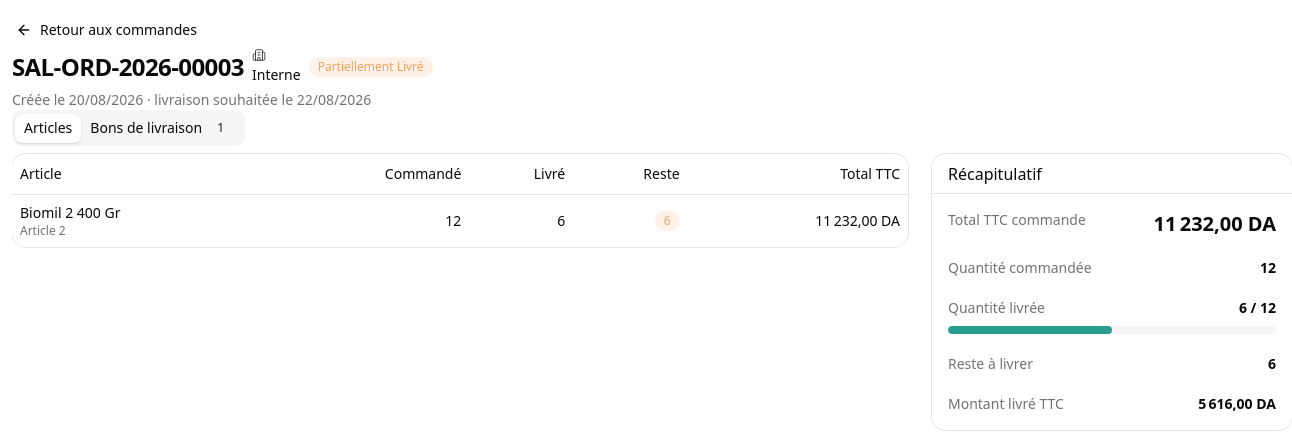
Test: détail commande portail › affiche les quantités réellement livrées d'une commande partielle
expect the text "Interne" is shown: met, box [252,65,301,84]
expect the tab "Articles" is shown: met, box [15,114,81,142]
Click the tab "Bons de livraison 1": (162, 128) [81,114,242,142]
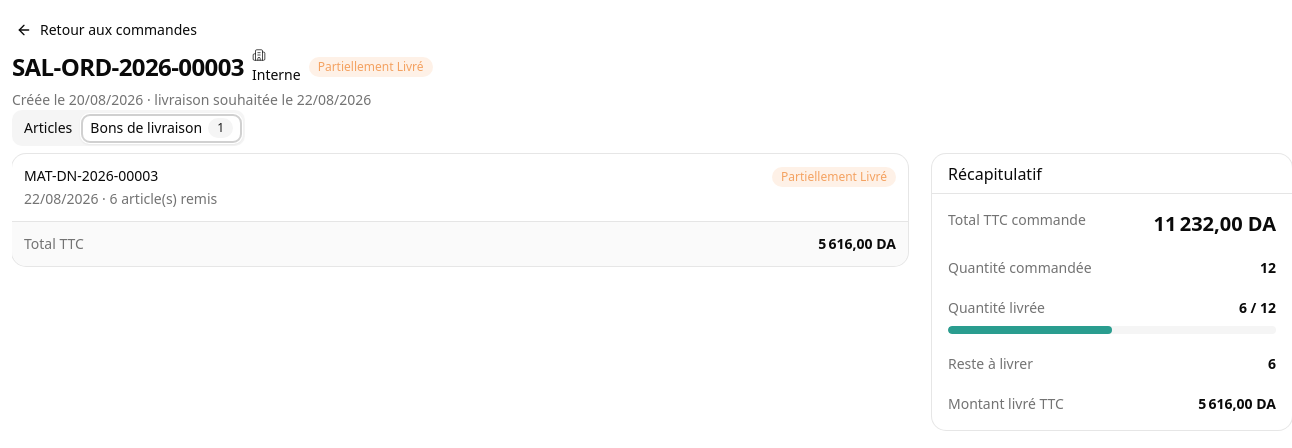
expect the text "MAT-DN-2026-00003" is shown: met, box [24,166,158,185]
expect the text "22/08/2026 · 6 article(s) remis" is shown: met, box [24,189,217,208]
